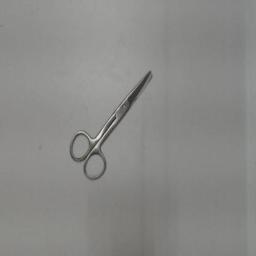Dressing Scissors: (66, 61, 158, 185)
